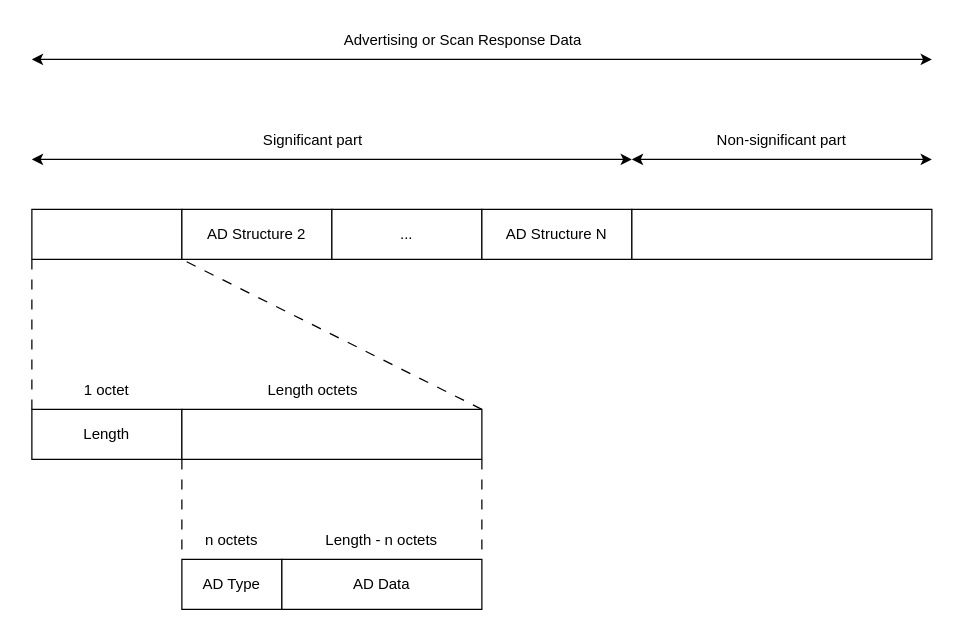
The diagram is 965 pixels wide and 631 high, and some of its shapes have lost their labels. The shapes that lost their labels are listed below. From the top down, each one's centre as x and y in pixels, then its label:
point 106,233: AD Structure 1
point 781,233: 000...000b
point 331,433: Data
